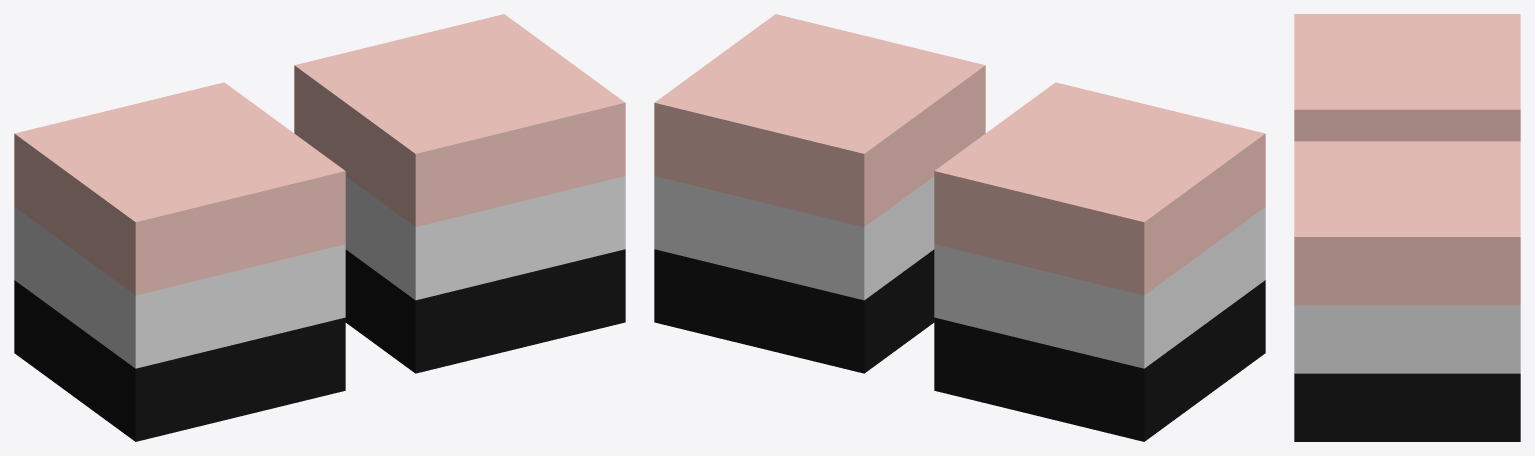
The model's file is legs.obj.
The picture shows the model from 3 angles, left to right: view 1: azimuth 30°, elevation 25°; view 2: azimuth 150°, elevation 25°; view 3: azimuth 270°, elevation 25°; orthographic projection. The views are drawn at different scales.
Bounding box in the file's own units: 0.7 × 0.3 × 0.3.
Materials: 1 (1 with a texture image).
